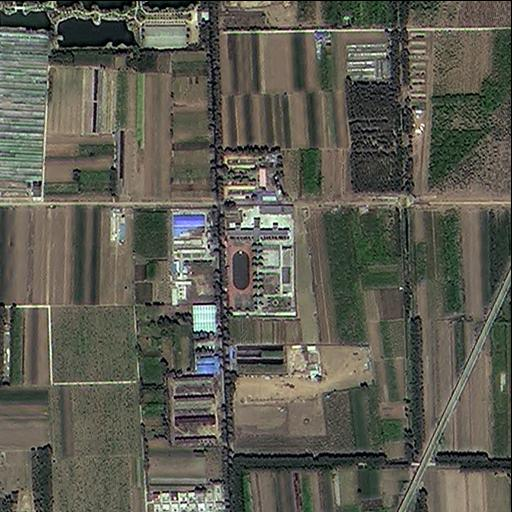school: (220, 200, 296, 315)
